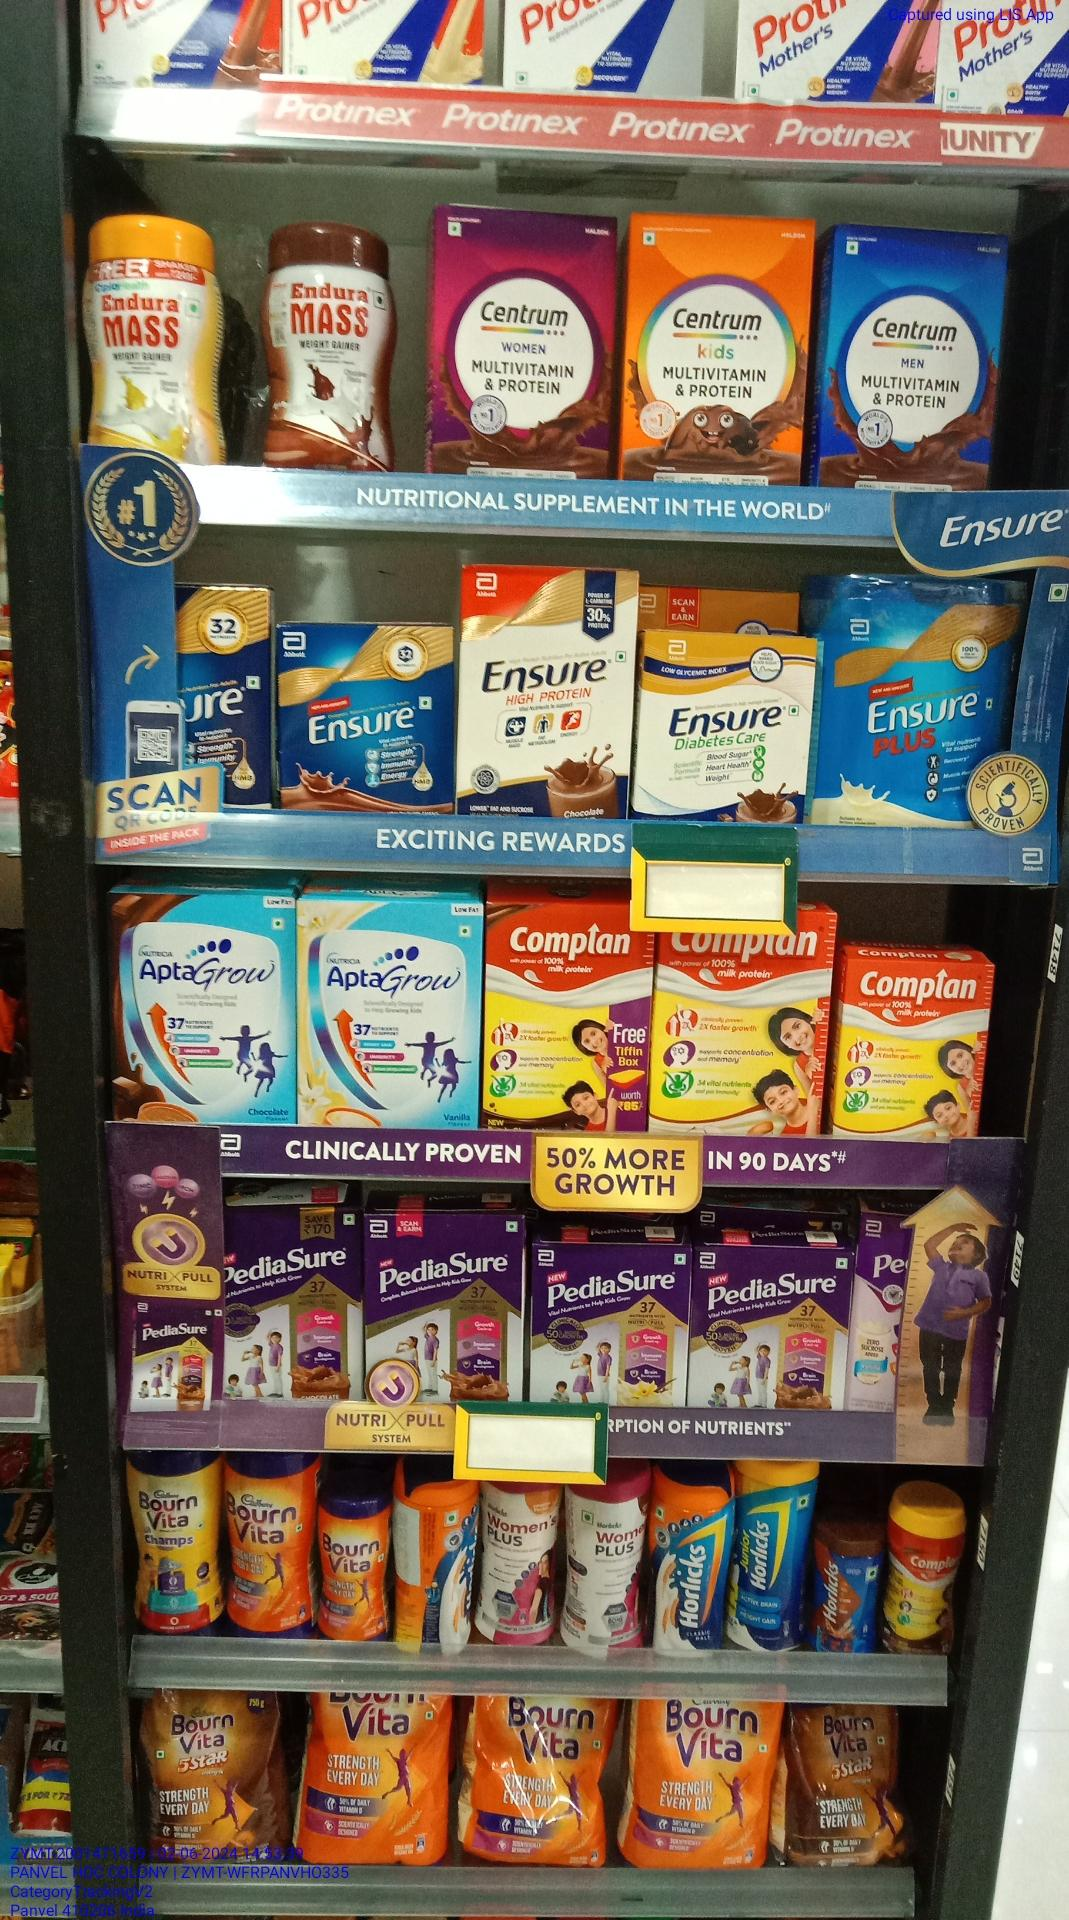BOURN_VITA_CHAMPS_500_G_JAR: (134, 1441, 213, 1642)
HORLICK_CLASSIC_MALT_500_G_PACK: (648, 1470, 729, 1658)
PEDIASURE_CHOCOLATE_500_G_PACK: (365, 1208, 523, 1396), (217, 1203, 353, 1396), (691, 1242, 845, 1412)
PEDIASURE_VANILLA_500_G_PACK: (529, 1237, 689, 1411)
